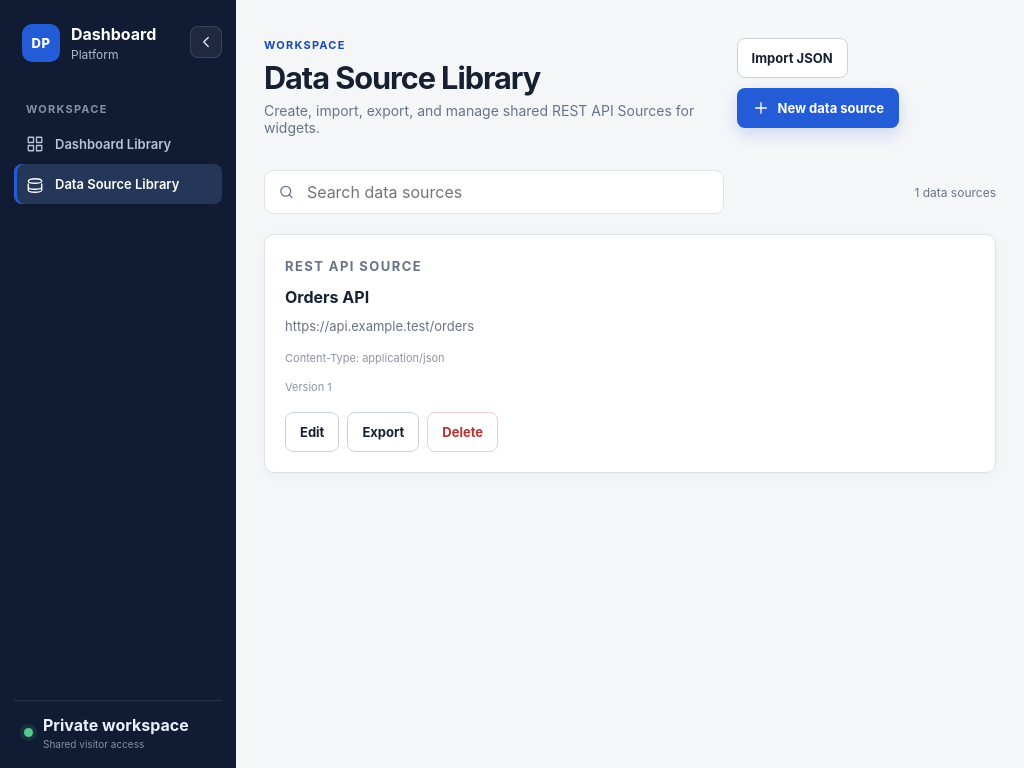
DataSourceLibrary › renders fetched data sources, filters them, and shows empty states
This screenshot has width=1024, height=768.
Expected: the heading "Orders API" is shown, [285, 287, 369, 307]
Type "billing" into the search field labelled "Search data sources" at (507, 192), box [305, 181, 710, 203]
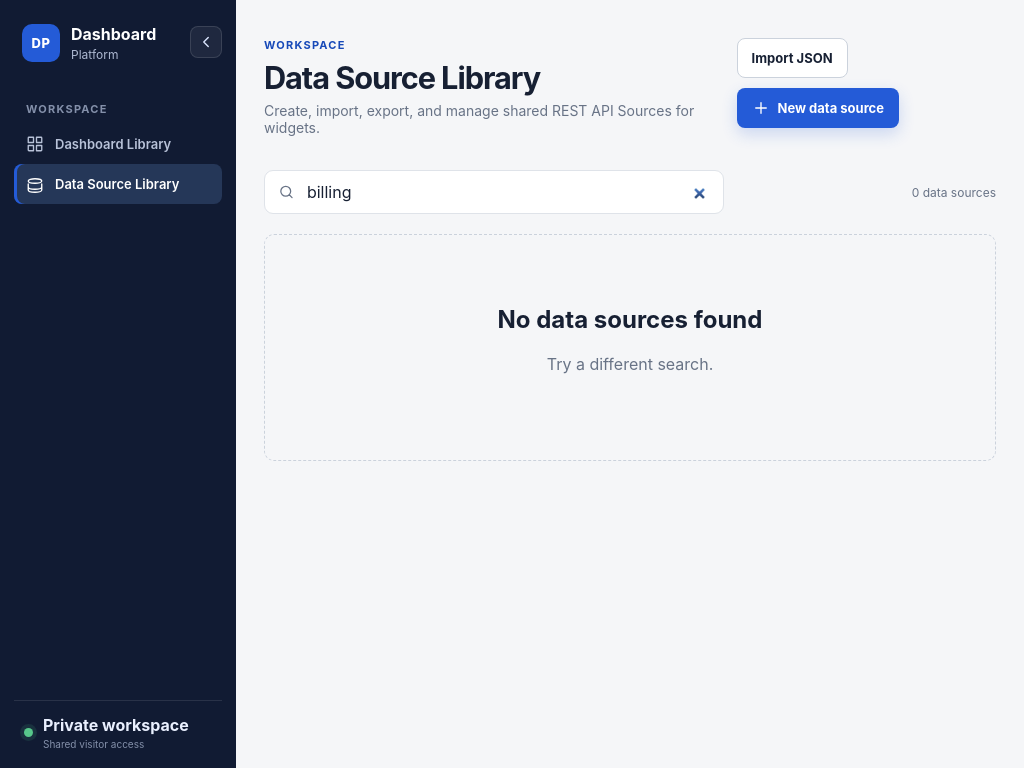
Now the heading "No data sources found" is shown, box [498, 305, 762, 334]
